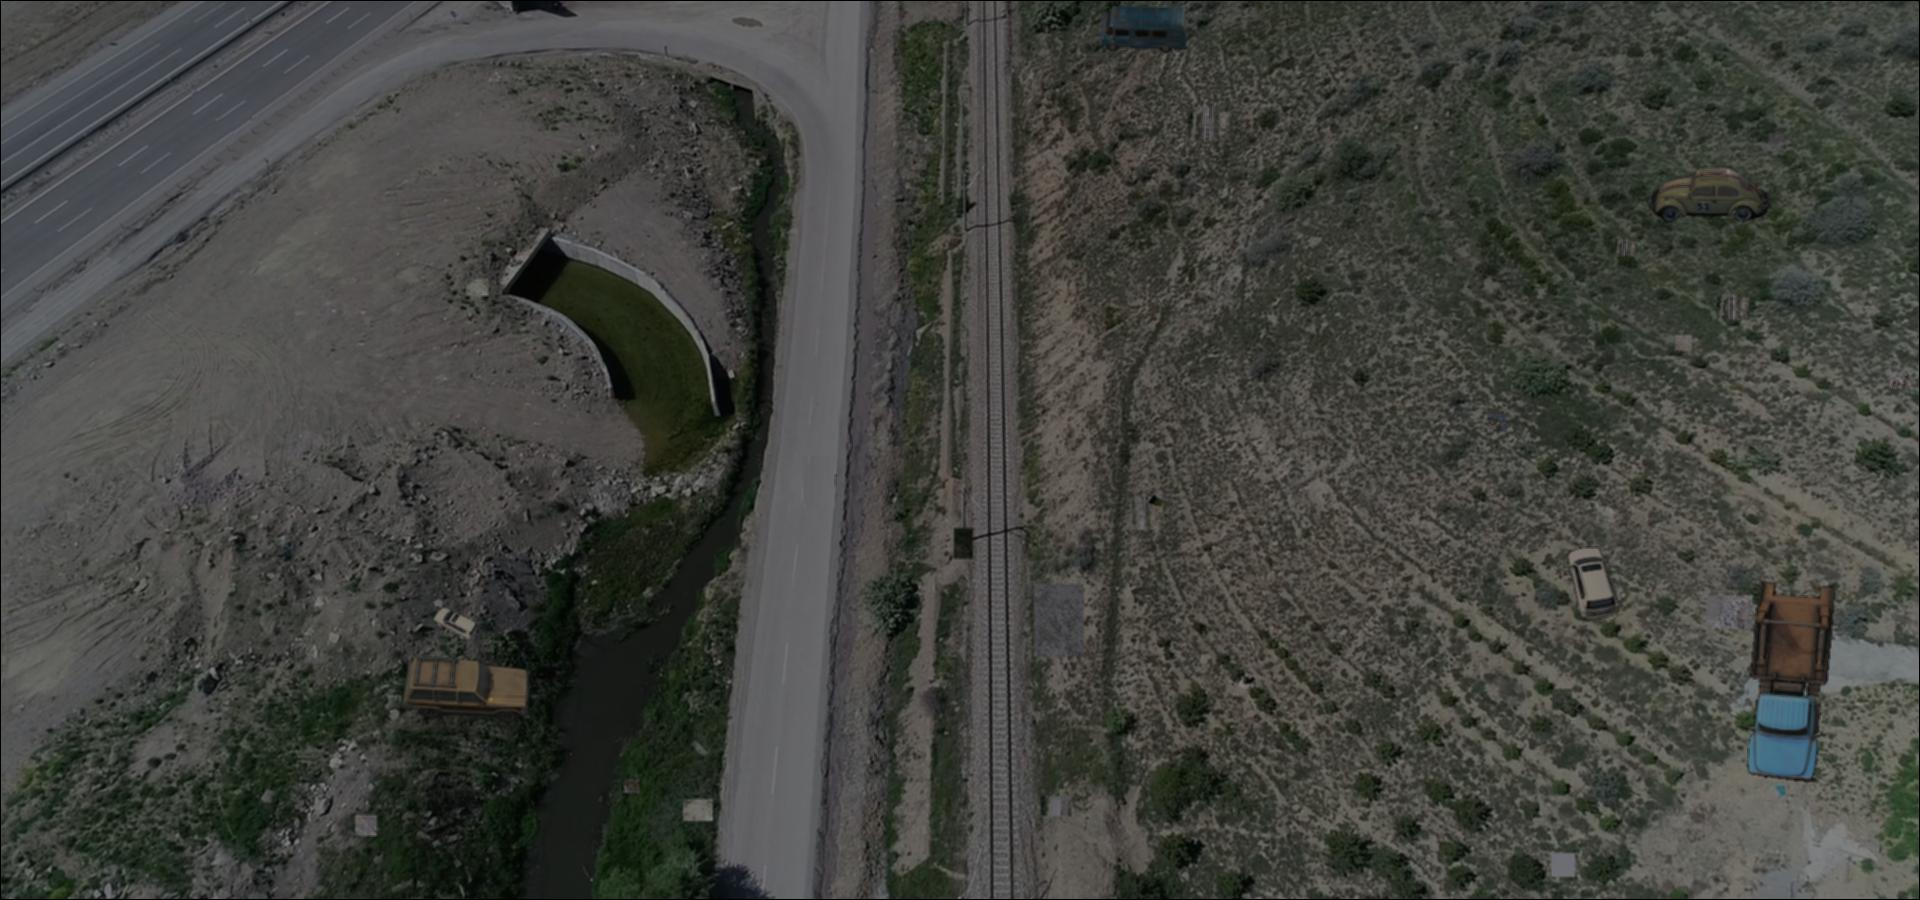arac: (1740, 577, 1840, 785), (400, 651, 535, 724), (1642, 164, 1776, 227), (1562, 547, 1621, 620), (1100, 6, 1188, 54), (432, 605, 478, 640)
